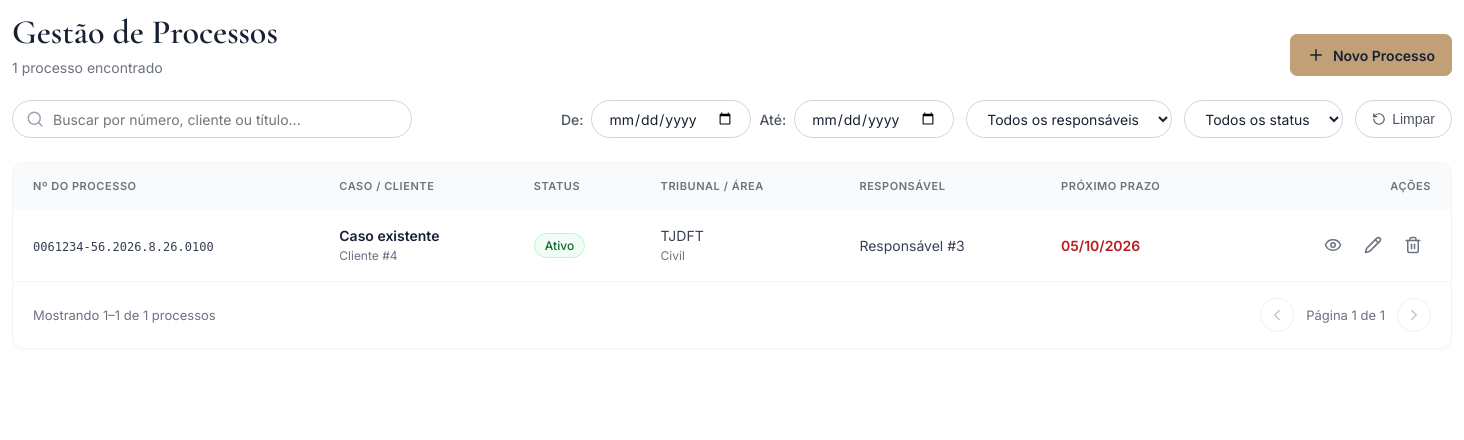
Test: ProcessosClient › não consulta o servidor com intervalo de prazo inválido
Type "2026-10-10" into the date field labelled "De:" at point(672, 119), box 592,100 -> 752,138
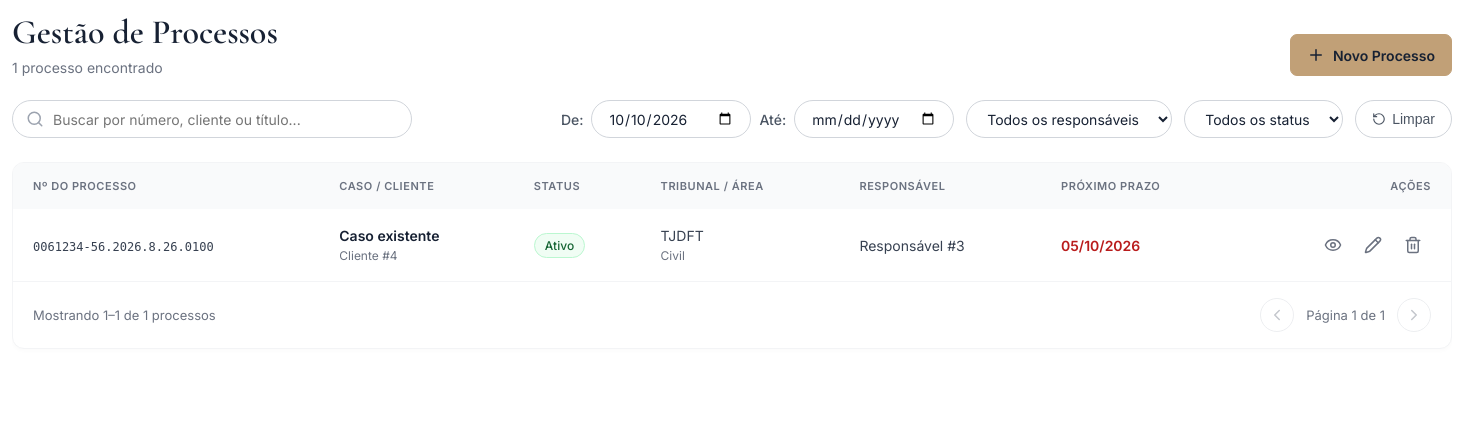
Type "2026-10-01" into the date field labelled "Até:" at point(874, 119), box 794,100 -> 954,138
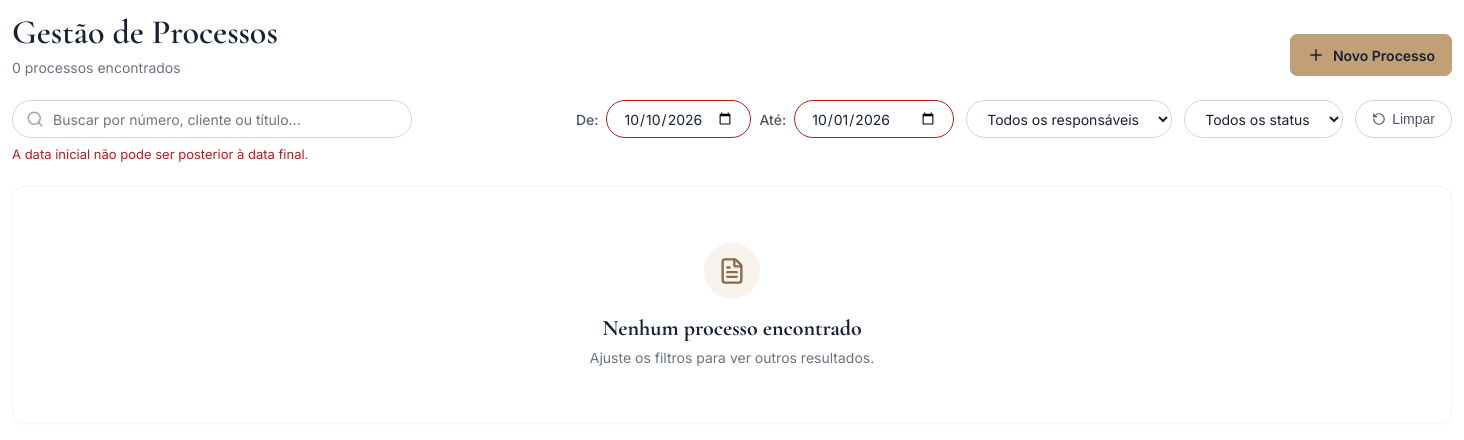
expect the message reads "A data inicial não pode ser posterior à data final.": met, box 12,146 -> 308,162
